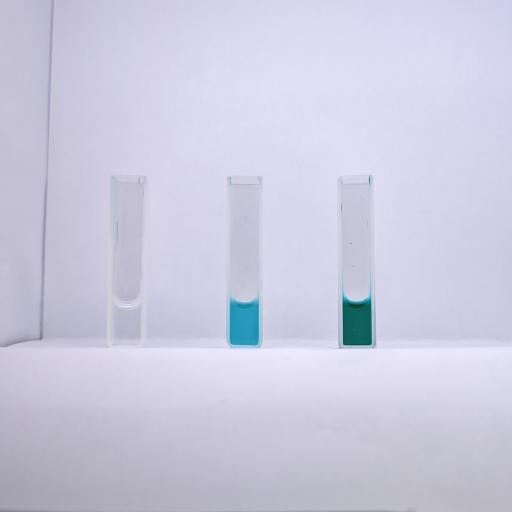cuvette: (334, 173, 380, 352), (106, 171, 149, 352), (225, 173, 264, 352)
liquid: (342, 299, 372, 345), (229, 298, 258, 345), (112, 298, 140, 343)
